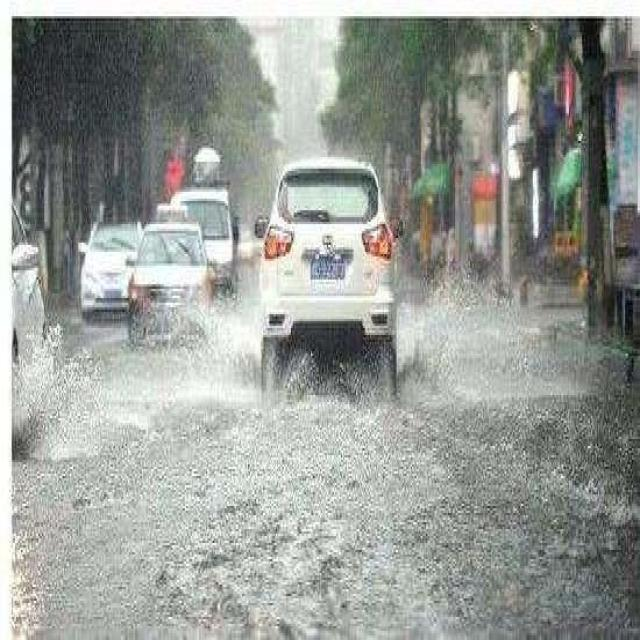car: (250, 154, 400, 390), (128, 222, 213, 333), (10, 194, 48, 430), (166, 180, 241, 286), (73, 214, 147, 314)
